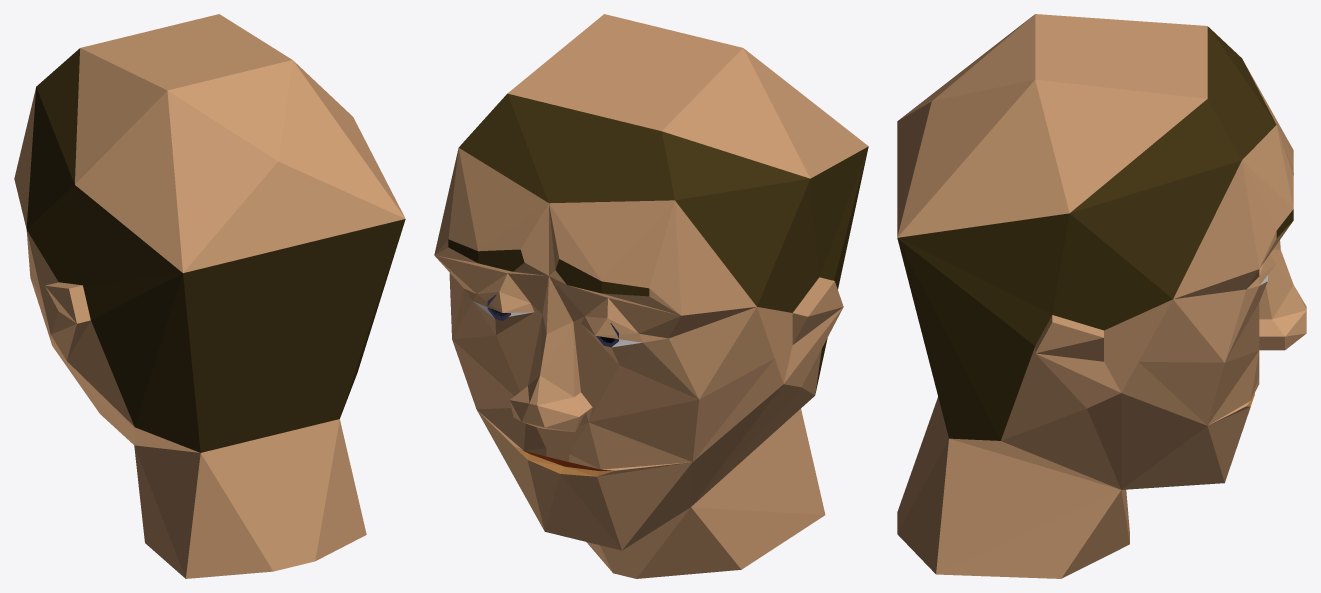
File: npc_chat_obli_0.obj
3 views of the same model, side by side, from view 1: azimuth 30°, elevation 25°; view 2: azimuth 150°, elevation 25°; view 3: azimuth 270°, elevation 25° (orthographic). The views are drawn at different scales.
Bounding box in the file's own units: 0.6875 × 0.9844 × 0.7422.
